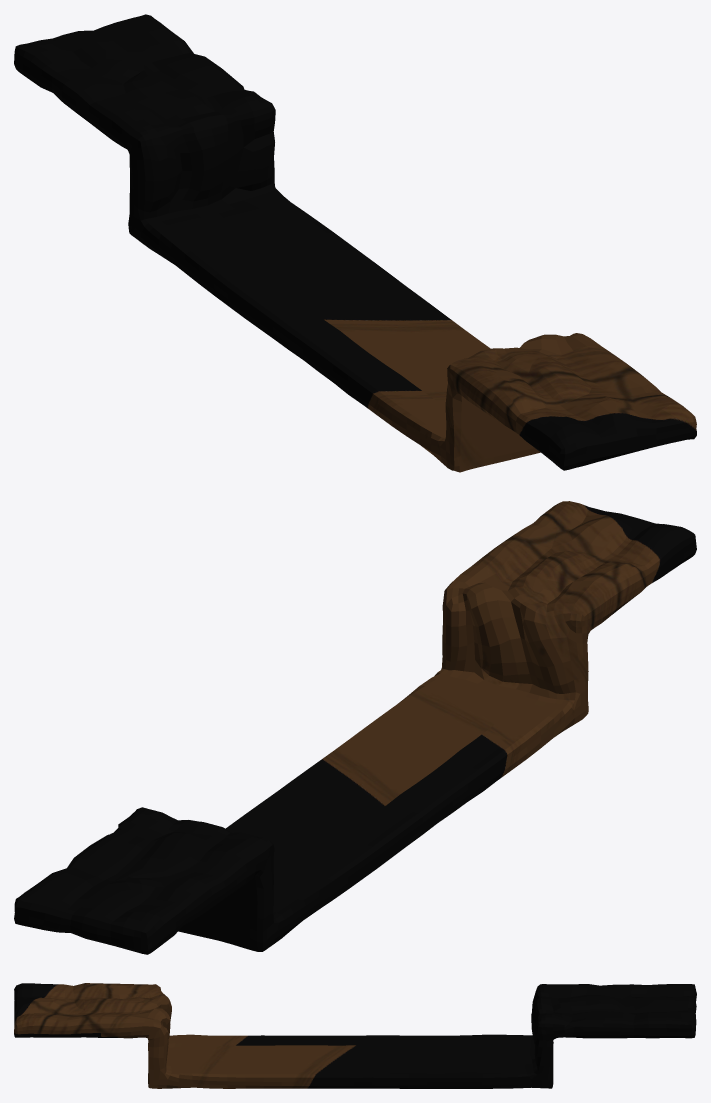
The model's file is Spike_Pit_Platform_1.fbx.
3 views of the same model, one above another, from view 1: azimuth 30°, elevation 25°; view 2: azimuth 150°, elevation 25°; view 3: azimuth 270°, elevation 25° (orthographic). The views are drawn at different scales.
Parts seen in each view (by area): view 1: Spike_Pit_Platform_1:ZBrushPolyMesh3D; view 2: Spike_Pit_Platform_1:ZBrushPolyMesh3D; view 3: Spike_Pit_Platform_1:ZBrushPolyMesh3D.
Part boxes in pixels (x1,y1,x2,y2): Spike_Pit_Platform_1:ZBrushPolyMesh3D: (14, 14, 696, 472); Spike_Pit_Platform_1:ZBrushPolyMesh3D: (14, 501, 696, 954); Spike_Pit_Platform_1:ZBrushPolyMesh3D: (14, 983, 696, 1088).
Bounding box in the file's own units: 2.01 × 1.57 × 13.85.
